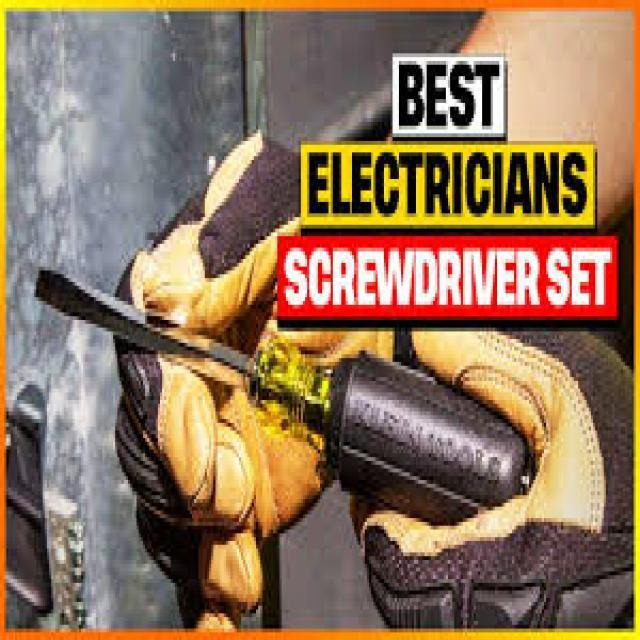screwdriver: (28, 263, 530, 518)
